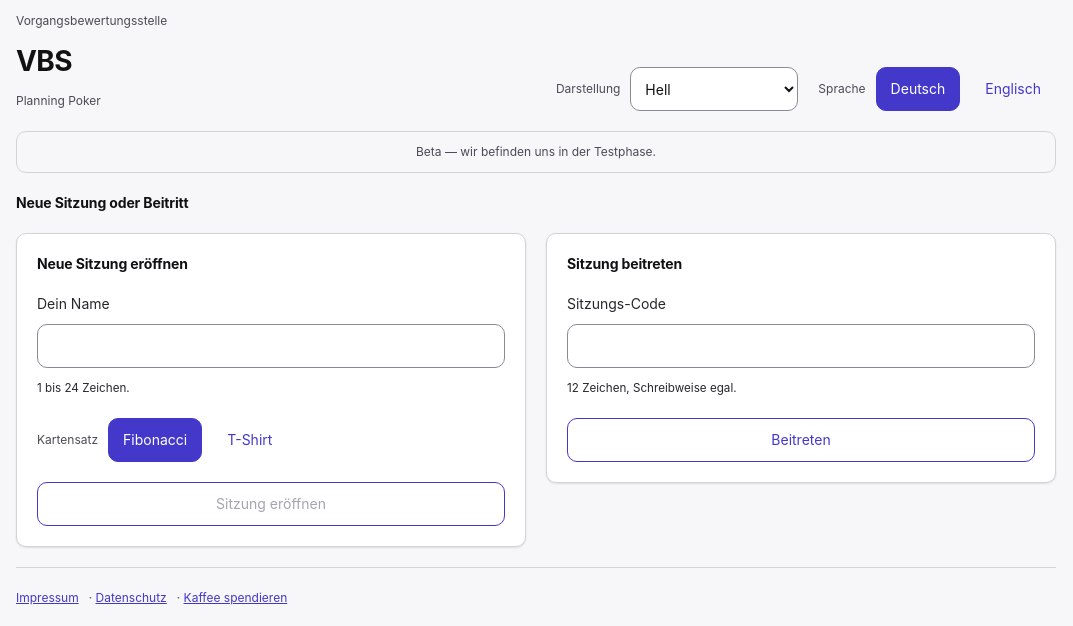
home screen › rejects a malformed code inline instead of navigating
The width and height of the screenshot is (1073, 626).
In the field labelled "Sitzungs-Code": point(801, 346) [567, 324, 1035, 368], type "NOPE"
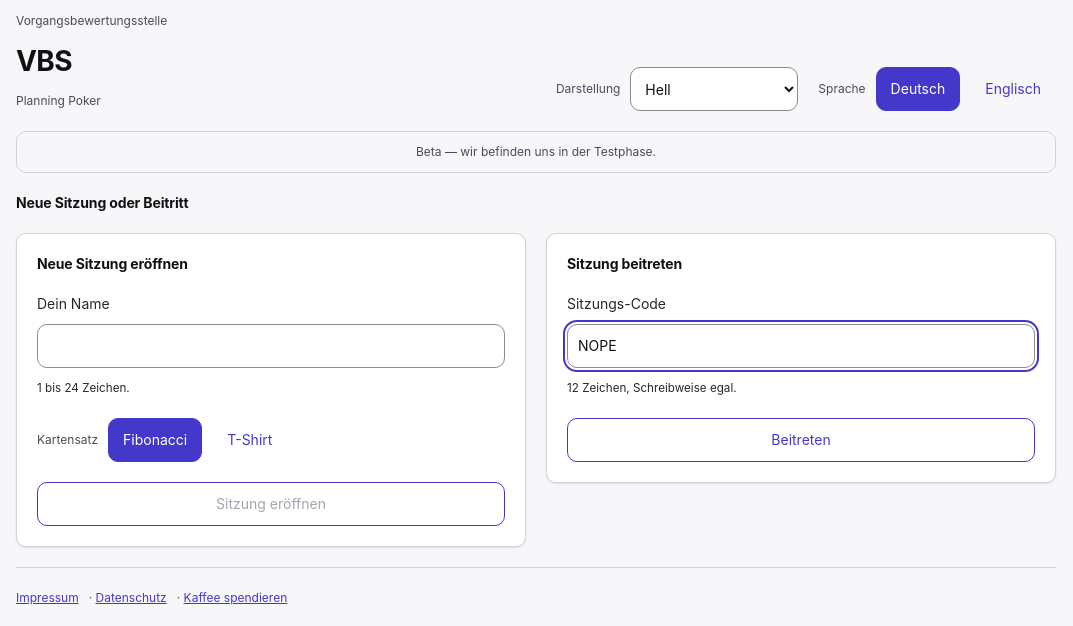
Click the button "Beitreten": point(801, 440) [567, 418, 1035, 462]
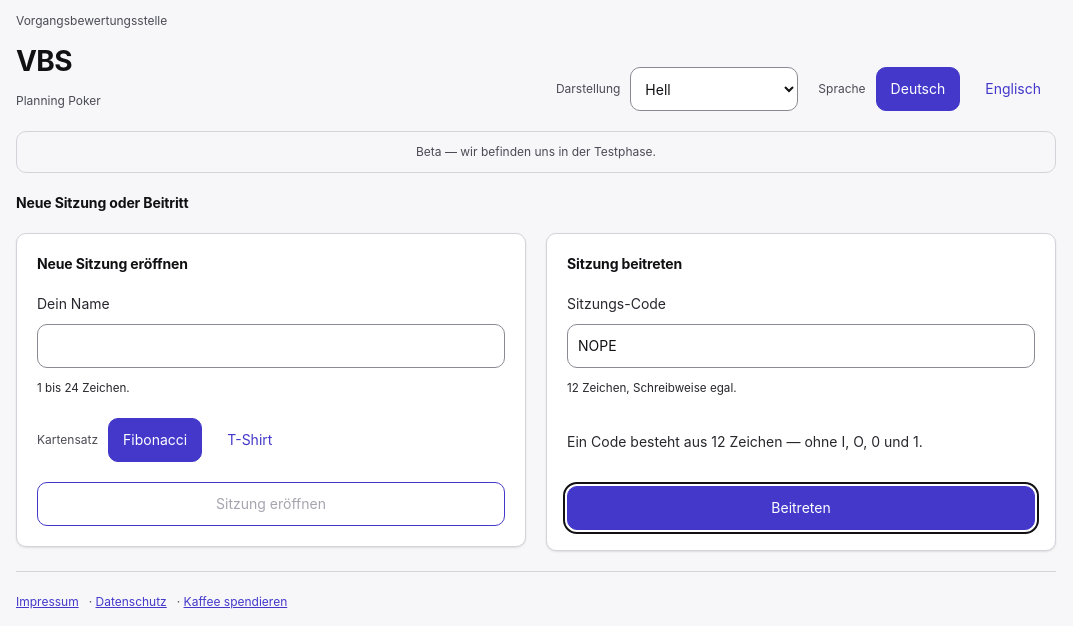
Expected: the heading "Sitzung beitreten" is shown, [567, 254, 682, 274]
Now the message shows "Ein Code besteht aus 12 Zeichen", box [567, 433, 923, 450]
